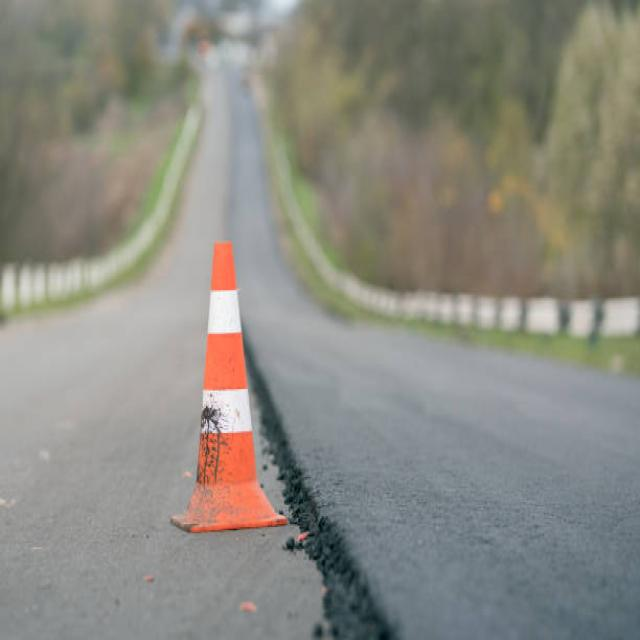Traffic Cone: (160, 214, 293, 558)
